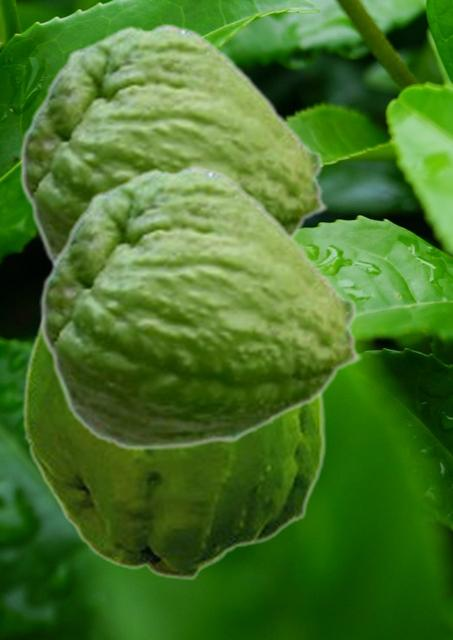sayote: (39, 164, 363, 451), (22, 313, 326, 580), (19, 22, 329, 268)
